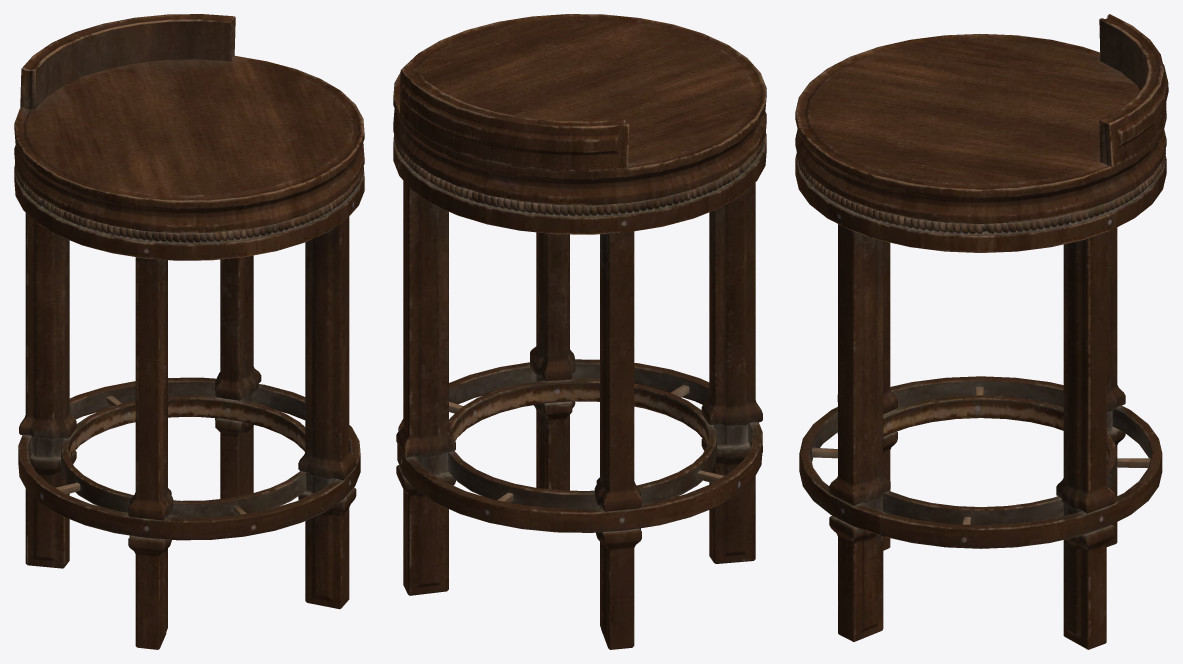
File: bar_chair_round_01.glb
The picture shows the model from 3 angles, left to right: view 1: azimuth 30°, elevation 25°; view 2: azimuth 150°, elevation 25°; view 3: azimuth 270°, elevation 25°; orthographic projection. The views are drawn at different scales.
Parts seen in each view (by area): view 1: bar_chair_round_01; view 2: bar_chair_round_01; view 3: bar_chair_round_01.
Boxes of the visible parts, x1,y1,x2,y2 form: bar_chair_round_01: (14,14,364,649); bar_chair_round_01: (393,14,766,649); bar_chair_round_01: (795,14,1168,649).
Bounding box in the file's own units: 0.4832 × 0.7505 × 0.486.
1 material, 1 textured.
